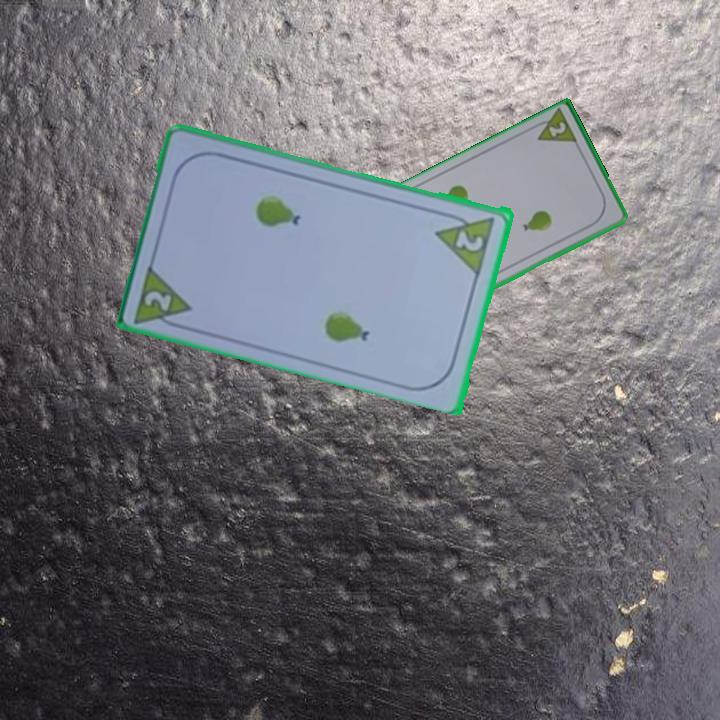2p: (130, 259, 196, 333), (528, 107, 581, 148), (452, 226, 487, 254)
